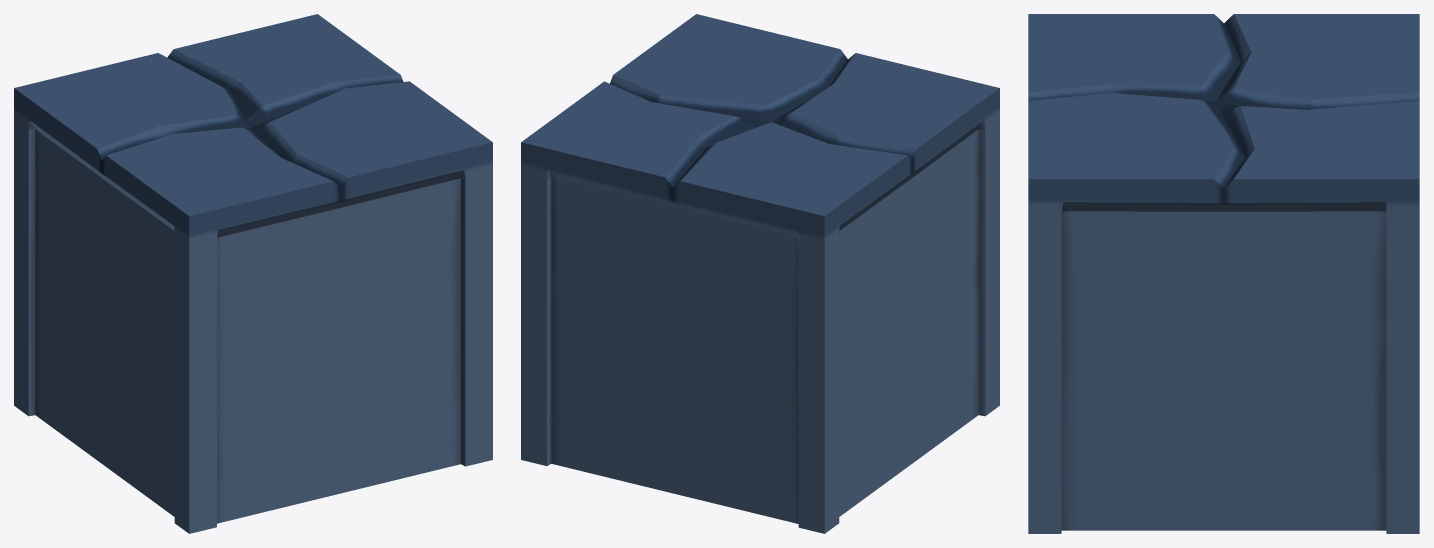
File: TileV3_20220509.obj
3 renders of one model, left to right at view 1: azimuth 30°, elevation 25°; view 2: azimuth 150°, elevation 25°; view 3: azimuth 270°, elevation 25°, orthographic. The views are drawn at different scales.
Visible parts, largest first — view 1: pCube1; view 2: pCube1; view 3: pCube1.
Boxes of the visible parts, box(x1,y1,x2,y2) form: pCube1: box(14, 14, 492, 533); pCube1: box(521, 14, 999, 533); pCube1: box(1028, 14, 1419, 533).
Bounding box in the file's own units: 5 × 5 × 5.
